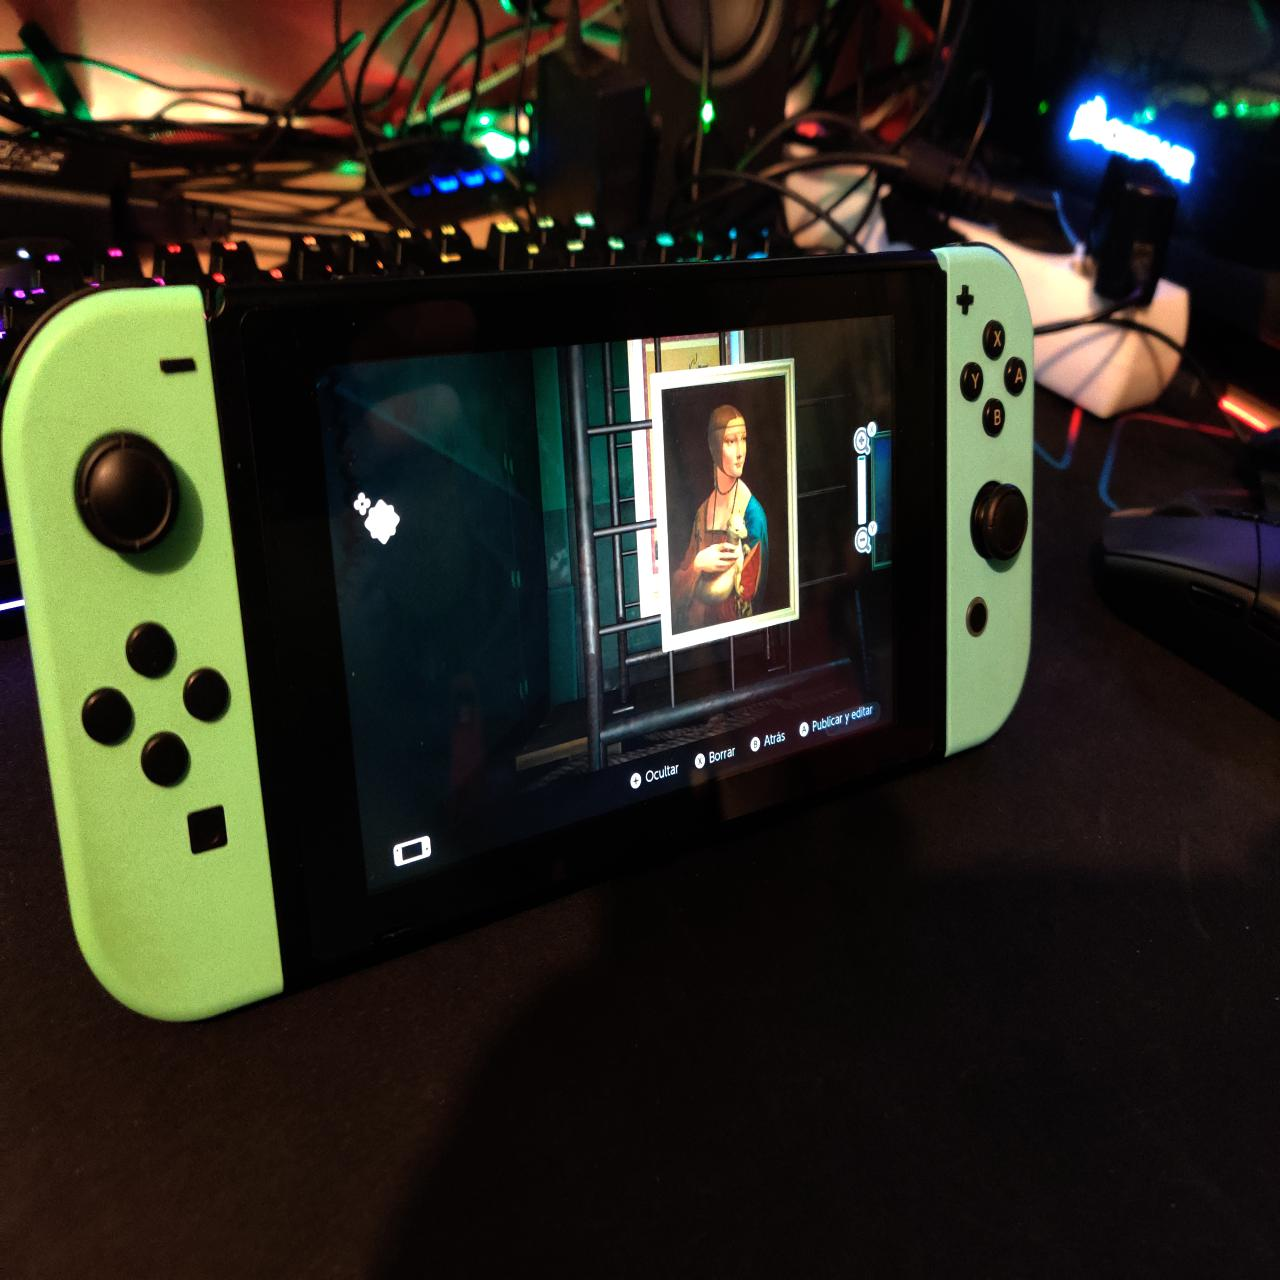PortraitCecilia: (663, 377, 799, 638)
